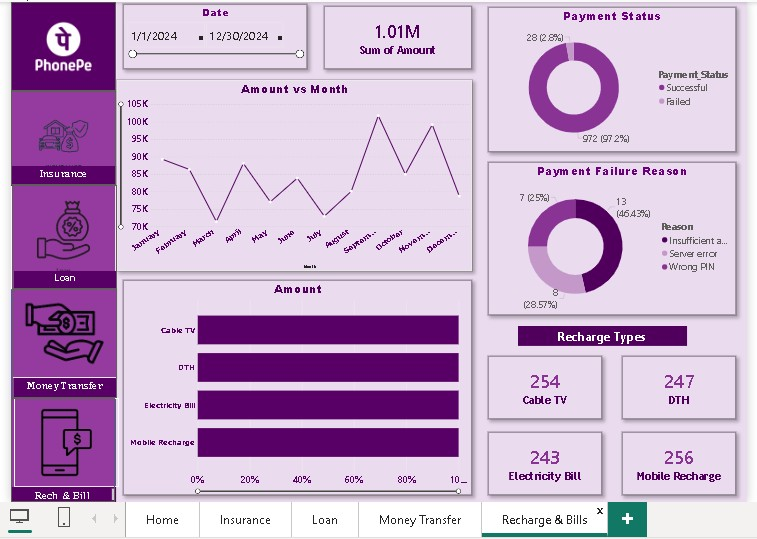

The page's visual inventory and layout, read from the dashboard file:
{"tool":"powerbi","page":{"name":"Recharge & Bills ","canvas":[2253,1532],"ordinal":4},"visuals":[{"type":"shape","box":[0,563.8,321.7,327.8],"z":0},{"type":"shape","box":[0,891.6,321.7,321.7],"z":1000},{"type":"shape","box":[0,0,321.7,315.6],"z":2000},{"type":"shape","box":[0,272.7,321.7,321.7],"z":3000},{"type":"shape","box":[0,1213.3,321.7,318.7],"z":4000},{"type":"image","box":[0,0,321.7,272.7],"z":5000},{"type":"image","box":[0,560.7,321.7,318.7],"z":6000},{"type":"image","box":[0,272.7,321.7,291.1],"z":7000},{"type":"image","box":[3.1,879.4,321.7,272.7],"z":8000},{"type":"image","box":[9.2,1213.3,321.7,272.7],"z":9000},{"type":"slicer","title":"Date ","fields":{"Values":["Recharge_Bills.Date"]},"box":[343.2,6.1,563.8,199.2],"z":10000},{"type":"cardVisual","title":"Date","fields":{"Data":["Sum(Recharge_Bills.Amount)"]},"box":[959,12.3,453.5,193],"z":11000},{"type":"donutChart","title":"Payment Status","fields":{"Category":["Recharge_Bills.Payment_Status"],"Y":["CountNonNull(Recharge_Bills.Payment_Status)"]},"box":[1461.5,15.3,759.9,444.3],"z":15000},{"type":"lineChart","title":"Amount vs Month","fields":{"Category":["Recharge_Bills.Date.Variation.Date Hierarchy.Month"],"Y":["Sum(Recharge_Bills.Amount)"]},"box":[324.8,239,1087.7,585.2],"z":16000},{"type":"hundredPercentStackedBarChart","title":"Amount","fields":{"Category":["Recharge_Bills.Recharge_Type"],"Y":["Sum(Recharge_Bills.Amount)"]},"box":[343.2,851.8,1069.3,658.8],"z":17000},{"type":"textbox","box":[0,502.5,321.7,61.3],"z":18000},{"type":"textbox","box":[9.2,1152.1,312.5,61.3],"z":19000},{"type":"textbox","box":[0,1486,321.7,46],"z":20000},{"type":"textbox","box":[9.2,824.2,312.5,55.2],"z":21000},{"type":"actionButton","box":[0,0,321.7,272.7],"z":22000},{"type":"actionButton","box":[0,272.7,321.7,288],"z":23000},{"type":"actionButton","box":[3.1,560.7,321.7,318.7],"z":24000},{"type":"actionButton","box":[3.1,879.4,321.7,334],"z":25000},{"type":"actionButton","box":[0,1213.3,318.7,318.7],"z":26000},{"type":"donutChart","title":"Payment Failure Reason","fields":{"Category":["Recharge_Bills.Reason"],"Y":["CountNonNull(Recharge_Bills.Reason)"]},"box":[1461.5,490.2,759.9,468.8],"z":26001},{"type":"cardVisual","title":"Date","fields":{"Data":["CountNonNull(Recharge_Bills.Recharge_Type)"]},"box":[1461.5,1084.7,349.3,193],"z":26002},{"type":"cardVisual","title":"Date","fields":{"Data":["CountNonNull(Recharge_Bills.Recharge_Type)"]},"box":[1872.1,1317.5,349.3,193],"z":26003},{"type":"cardVisual","title":"Date","fields":{"Data":["CountNonNull(Recharge_Bills.Recharge_Type)"]},"box":[1872.1,1084.7,349.3,193],"z":26004},{"type":"cardVisual","title":"Date","fields":{"Data":["CountNonNull(Recharge_Bills.Recharge_Type)"]},"box":[1461.5,1317.5,349.3,193],"z":26005},{"type":"textbox","box":[1553.4,992.7,517.8,61.3],"z":26006}]}

Visuals, with their boxes on the page's 2253x1532 design canvas (x1, y1, x2, y2). These are canvas units, not pixel positions in the 757x539 screenshot, which may show the page scaled, cropped or inside an application window:
shape: (x1=0, y1=564, x2=322, y2=892)
shape: (x1=0, y1=892, x2=322, y2=1213)
shape: (x1=0, y1=0, x2=322, y2=316)
shape: (x1=0, y1=273, x2=322, y2=594)
shape: (x1=0, y1=1213, x2=322, y2=1532)
image: (x1=0, y1=0, x2=322, y2=273)
image: (x1=0, y1=561, x2=322, y2=879)
image: (x1=0, y1=273, x2=322, y2=564)
image: (x1=3, y1=879, x2=325, y2=1152)
image: (x1=9, y1=1213, x2=331, y2=1486)
"Date " slicer: (x1=343, y1=6, x2=907, y2=205)
"Date" cardVisual: (x1=959, y1=12, x2=1412, y2=205)
"Payment Status" donutChart: (x1=1462, y1=15, x2=2221, y2=460)
"Amount vs Month" lineChart: (x1=325, y1=239, x2=1412, y2=824)
"Amount" hundredPercentStackedBarChart: (x1=343, y1=852, x2=1412, y2=1511)
textbox: (x1=0, y1=502, x2=322, y2=564)
textbox: (x1=9, y1=1152, x2=322, y2=1213)
textbox: (x1=0, y1=1486, x2=322, y2=1532)
textbox: (x1=9, y1=824, x2=322, y2=879)
actionButton: (x1=0, y1=0, x2=322, y2=273)
actionButton: (x1=0, y1=273, x2=322, y2=561)
actionButton: (x1=3, y1=561, x2=325, y2=879)
actionButton: (x1=3, y1=879, x2=325, y2=1213)
actionButton: (x1=0, y1=1213, x2=319, y2=1532)
"Payment Failure Reason" donutChart: (x1=1462, y1=490, x2=2221, y2=959)
"Date" cardVisual: (x1=1462, y1=1085, x2=1811, y2=1278)
"Date" cardVisual: (x1=1872, y1=1318, x2=2221, y2=1510)
"Date" cardVisual: (x1=1872, y1=1085, x2=2221, y2=1278)
"Date" cardVisual: (x1=1462, y1=1318, x2=1811, y2=1510)
textbox: (x1=1553, y1=993, x2=2071, y2=1054)
